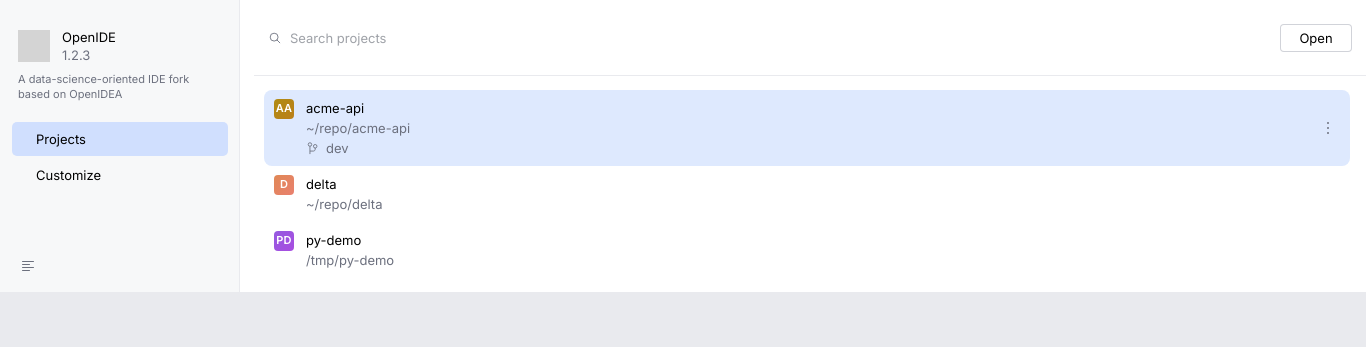
Test: Welcome › Projects › offers Open in New Window in the row menu when the action exists
Click the button named "Project actions" at x=1328, y=128, box [1316, 116, 1340, 140]
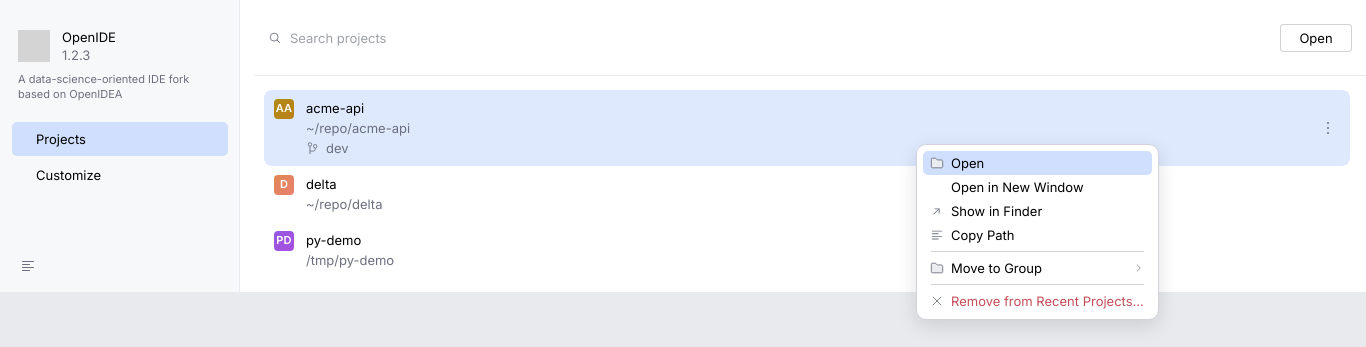
Now the text "Open in New Window" is shown, box [951, 179, 1084, 195]
Now the text "Show in Finder" is shown, box [951, 203, 1042, 219]
Now the text "Remove from Recent Projects…" is shown, box [951, 292, 1144, 310]
